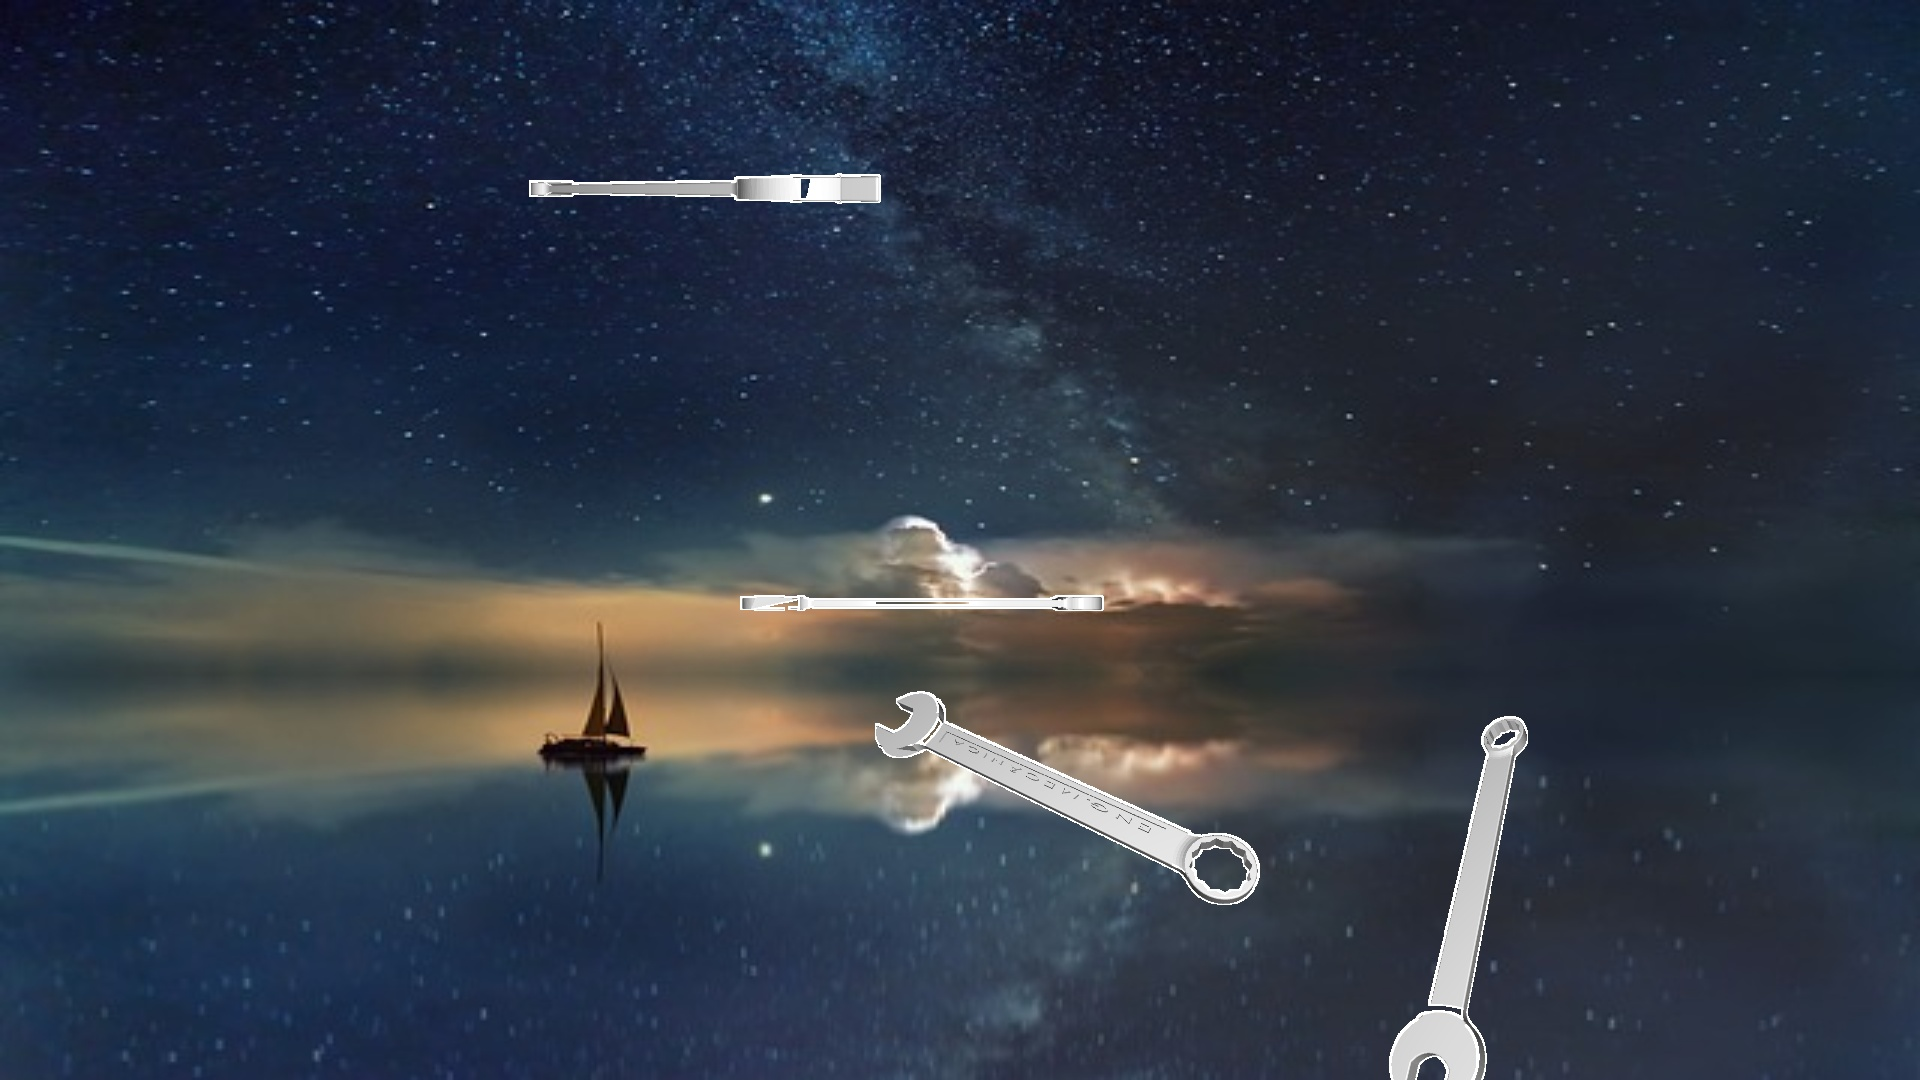Mixed Key: (876, 691, 1259, 905), (1389, 716, 1527, 1079), (529, 173, 880, 203), (740, 595, 1102, 611)
